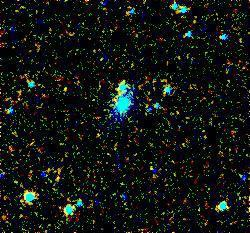star: (50, 75, 80, 105)
